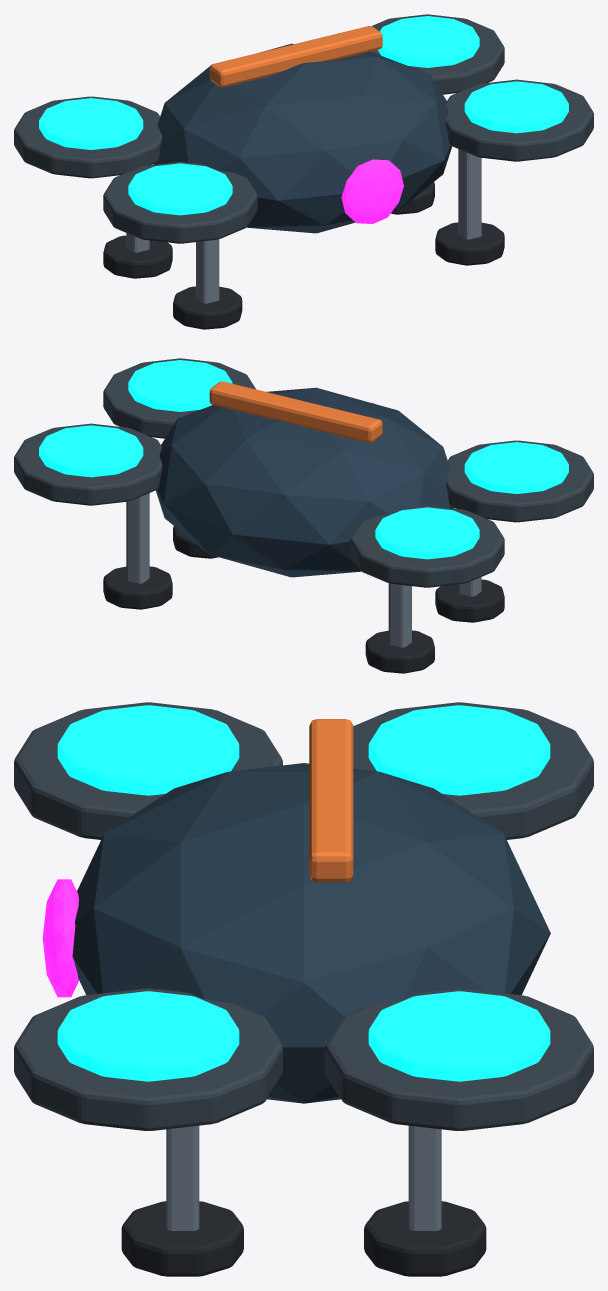
The model's file is hover-drone.glb.
3 views of the same model, one above another, from view 1: azimuth 30°, elevation 25°; view 2: azimuth 150°, elevation 25°; view 3: azimuth 270°, elevation 25° (orthographic). The views are drawn at different scales.
Parts seen in each view (by area): view 1: DroneBody, RotorHousing_3, RotorHousing_2, RotorHousing_1, RotorGlow_3, RotorGlow_1, RotorGlow_2, TopStripe, RotorGlow_0, DroneEye, RotorHousing_0, LandingPad_2 (+5 smaller); view 2: DroneBody, RotorHousing_1, RotorHousing_0, RotorHousing_3, TopStripe, RotorGlow_1, RotorGlow_3, RotorGlow_0, RotorGlow_2, RotorHousing_2, LandingPad_0, LandingPad_1 (+4 smaller); view 3: DroneBody, RotorHousing_0, RotorHousing_2, RotorGlow_0, RotorGlow_2, RotorGlow_1, RotorGlow_3, RotorHousing_3, RotorHousing_1, TopStripe, LandingPad_0, LandingPad_2 (+3 smaller).
Part boxes in pixels (bbox=[...]): DroneBody: bbox=[153, 43, 451, 233]; RotorHousing_3: bbox=[103, 161, 257, 243]; RotorHousing_2: bbox=[445, 79, 593, 161]; RotorHousing_1: bbox=[14, 96, 161, 178]; RotorGlow_3: bbox=[128, 163, 232, 215]; RotorGlow_1: bbox=[39, 98, 143, 149]; RotorGlow_2: bbox=[464, 81, 568, 133]; TopStripe: bbox=[209, 26, 382, 87]; RotorGlow_0: bbox=[378, 16, 479, 67]; DroneEye: bbox=[341, 159, 403, 223]; RotorHousing_0: bbox=[371, 14, 504, 94]; LandingPad_2: bbox=[435, 222, 504, 265]; DroneBody: bbox=[156, 387, 454, 577]; RotorHousing_1: bbox=[350, 505, 504, 587]; RotorHousing_0: bbox=[14, 423, 162, 505]; RotorHousing_3: bbox=[446, 440, 593, 522]; TopStripe: bbox=[209, 381, 382, 442]; RotorGlow_1: bbox=[375, 507, 479, 559]; RotorGlow_3: bbox=[464, 442, 568, 493]; RotorGlow_0: bbox=[39, 425, 143, 477]; RotorGlow_2: bbox=[128, 360, 232, 411]; RotorHousing_2: bbox=[103, 358, 256, 438]; LandingPad_0: bbox=[103, 566, 172, 609]; LandingPad_1: bbox=[365, 630, 434, 673]; DroneBody: bbox=[72, 763, 550, 1103]; RotorHousing_0: bbox=[325, 988, 593, 1130]; RotorHousing_2: bbox=[14, 988, 282, 1130]; RotorGlow_0: bbox=[368, 991, 550, 1081]; RotorGlow_2: bbox=[57, 991, 239, 1081]; RotorGlow_1: bbox=[368, 705, 550, 795]; RotorGlow_3: bbox=[57, 705, 239, 795]; RotorHousing_3: bbox=[14, 702, 282, 839]; RotorHousing_1: bbox=[353, 702, 593, 839]; TopStripe: bbox=[309, 719, 353, 882]; LandingPad_0: bbox=[364, 1201, 486, 1276]; LandingPad_2: bbox=[121, 1201, 243, 1276].
Size of the model in its own units: 1.45 by 0.602 by 0.8879.
